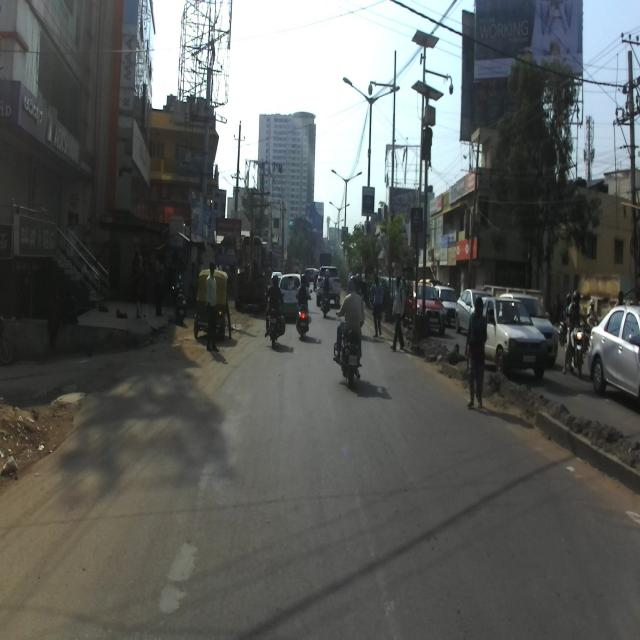car: (472, 296, 547, 382), (498, 292, 557, 365)
motorcycle: (333, 295, 364, 388), (564, 310, 590, 378), (264, 292, 285, 348)
